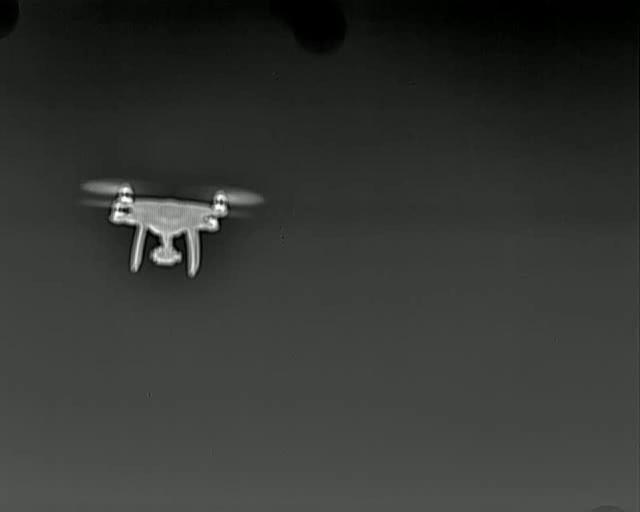DJI-Phantom: (84, 177, 265, 279)
